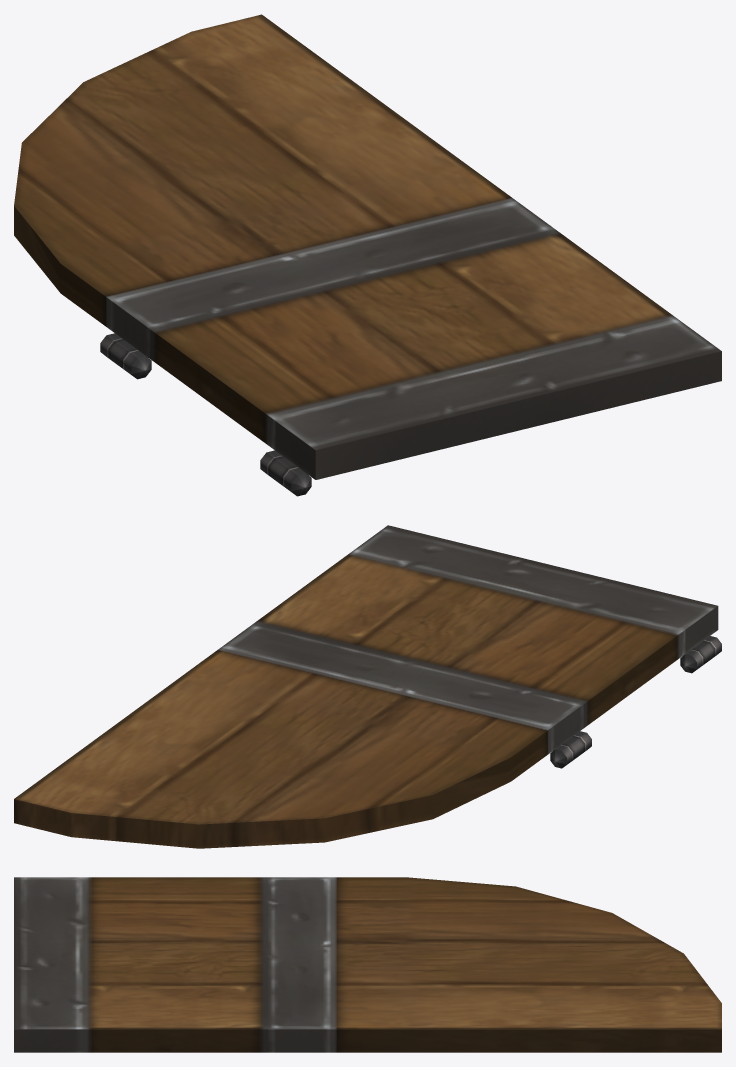
Rendered from Windmill_doorR.fbx.
The picture shows the model from 3 angles, top to bottom: view 1: azimuth 30°, elevation 25°; view 2: azimuth 150°, elevation 25°; view 3: azimuth 270°, elevation 25°; orthographic projection. The views are drawn at different scales.
Visible parts, largest first — view 1: Windmill_doorR_LOD0; view 2: Windmill_doorR_LOD0; view 3: Windmill_doorR_LOD0.
Boxes of the visible parts, <box> form: Windmill_doorR_LOD0: <box>14,14,721,496</box>; Windmill_doorR_LOD0: <box>14,525,721,848</box>; Windmill_doorR_LOD0: <box>14,877,721,1052</box>.
Size of what is drawn, in the model's own units: 1.32 by 0.1787 by 2.49.
